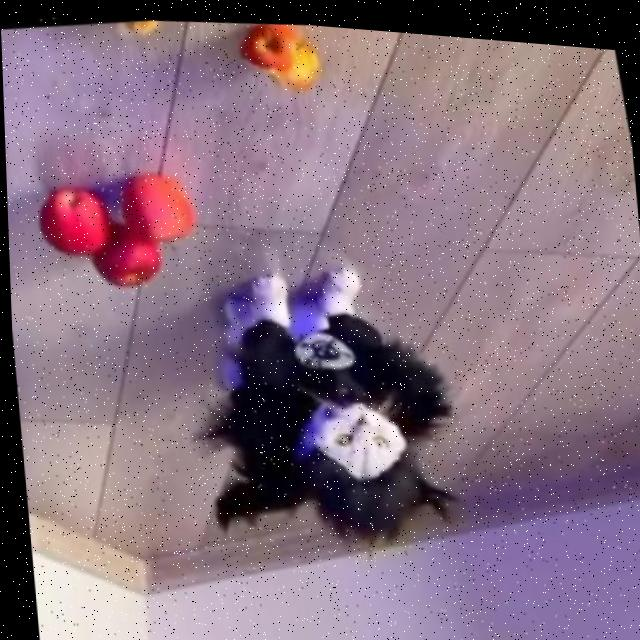Cats: (214, 256, 420, 501)
